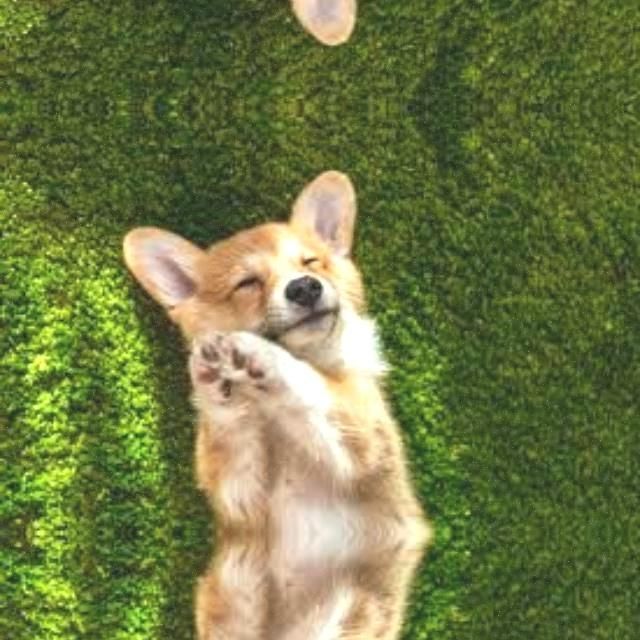dog: (108, 153, 440, 532), (108, 532, 440, 640), (108, 0, 440, 60)
